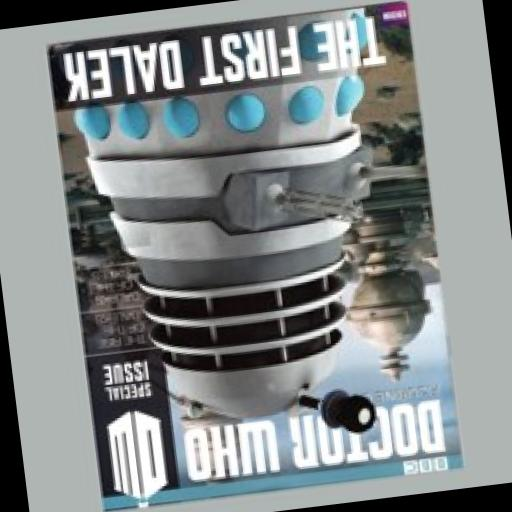dalek: (57, 0, 430, 465)
